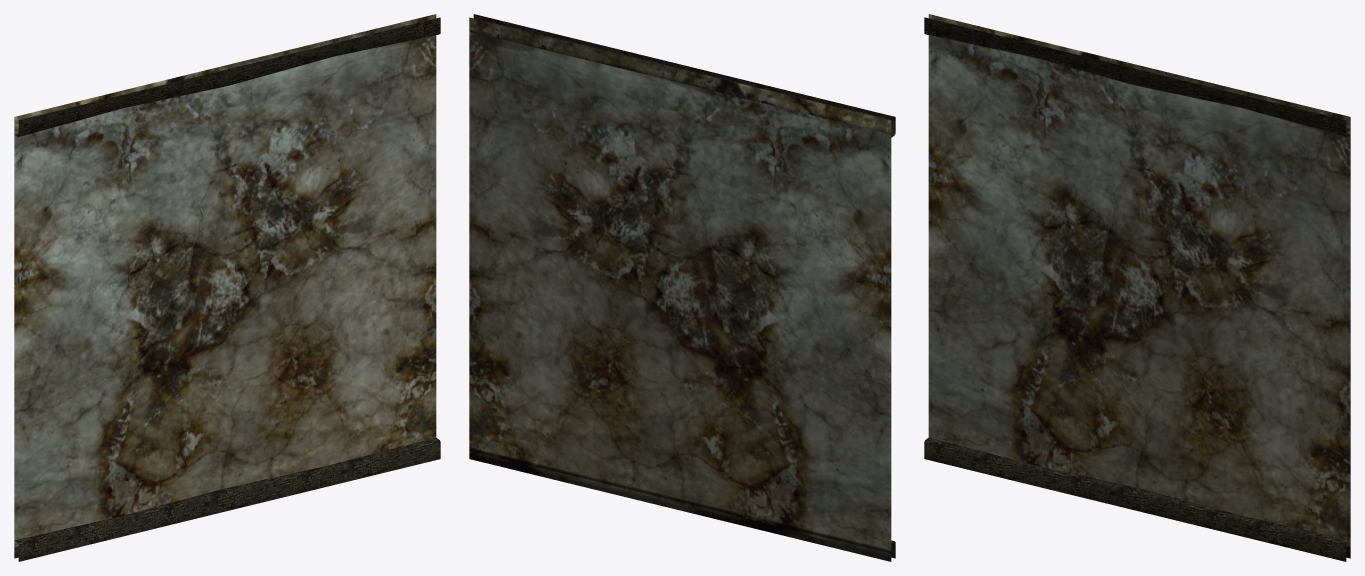
Rendered from cellar_wall_04.DAE.
3 views of the same model, side by side, from view 1: azimuth 30°, elevation 25°; view 2: azimuth 150°, elevation 25°; view 3: azimuth 330°, elevation 25° (orthographic).
Visible parts, largest first — view 1: Box009, Box010; view 2: Box009, Box010; view 3: Box009, Box010.
Boxes of the visible parts, x1=… form: Box009: x1=14, y1=14, x2=436, y2=558; Box010: x1=14, y1=17, x2=440, y2=561; Box009: x1=469, y1=17, x2=891, y2=561; Box010: x1=473, y1=14, x2=895, y2=558; Box009: x1=928, y1=14, x2=1350, y2=558; Box010: x1=924, y1=17, x2=1350, y2=561.
Bounding box in the file's own units: 4 × 4 × 0.0821.
